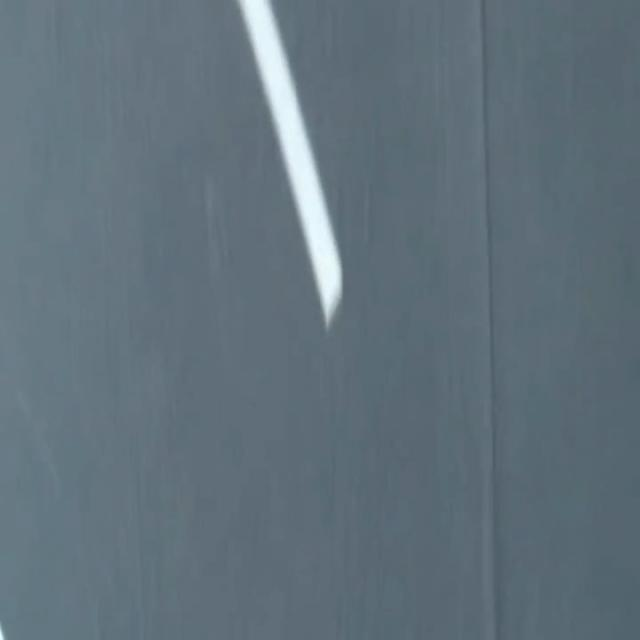center: (237, 0, 341, 327)
